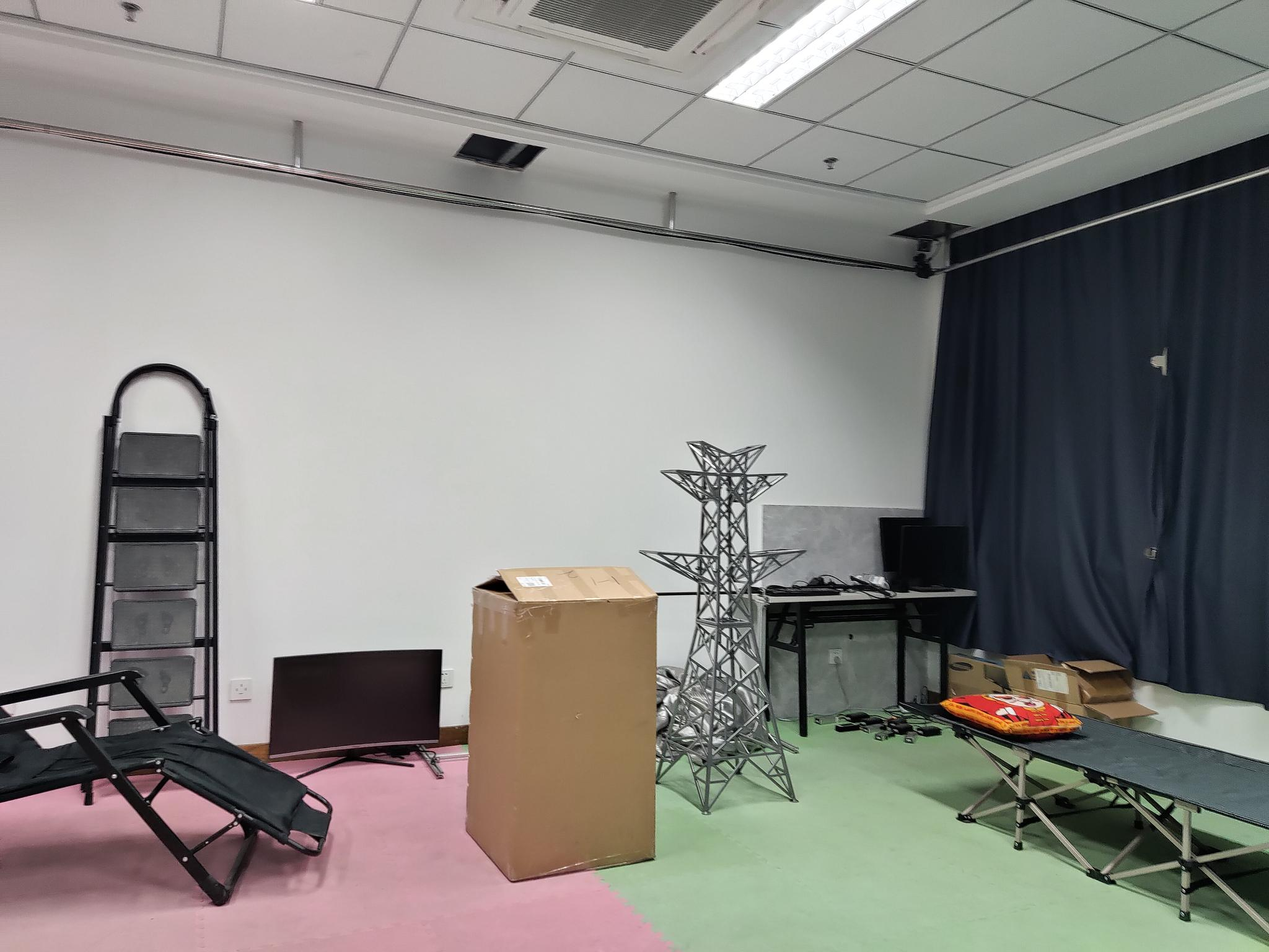tower: (639, 440, 802, 811)
